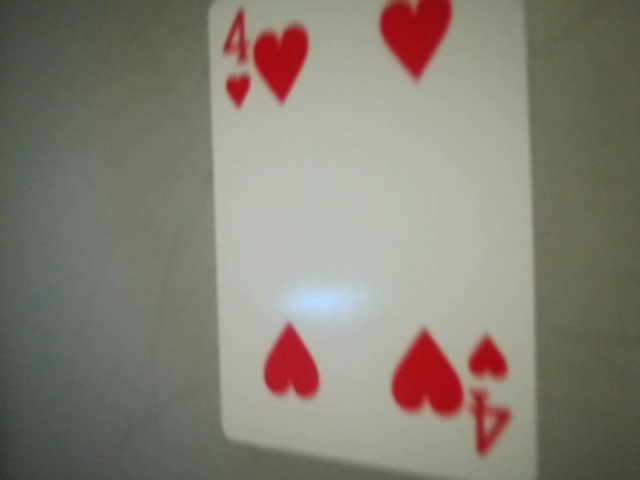hx 4: (458, 320, 531, 479)
